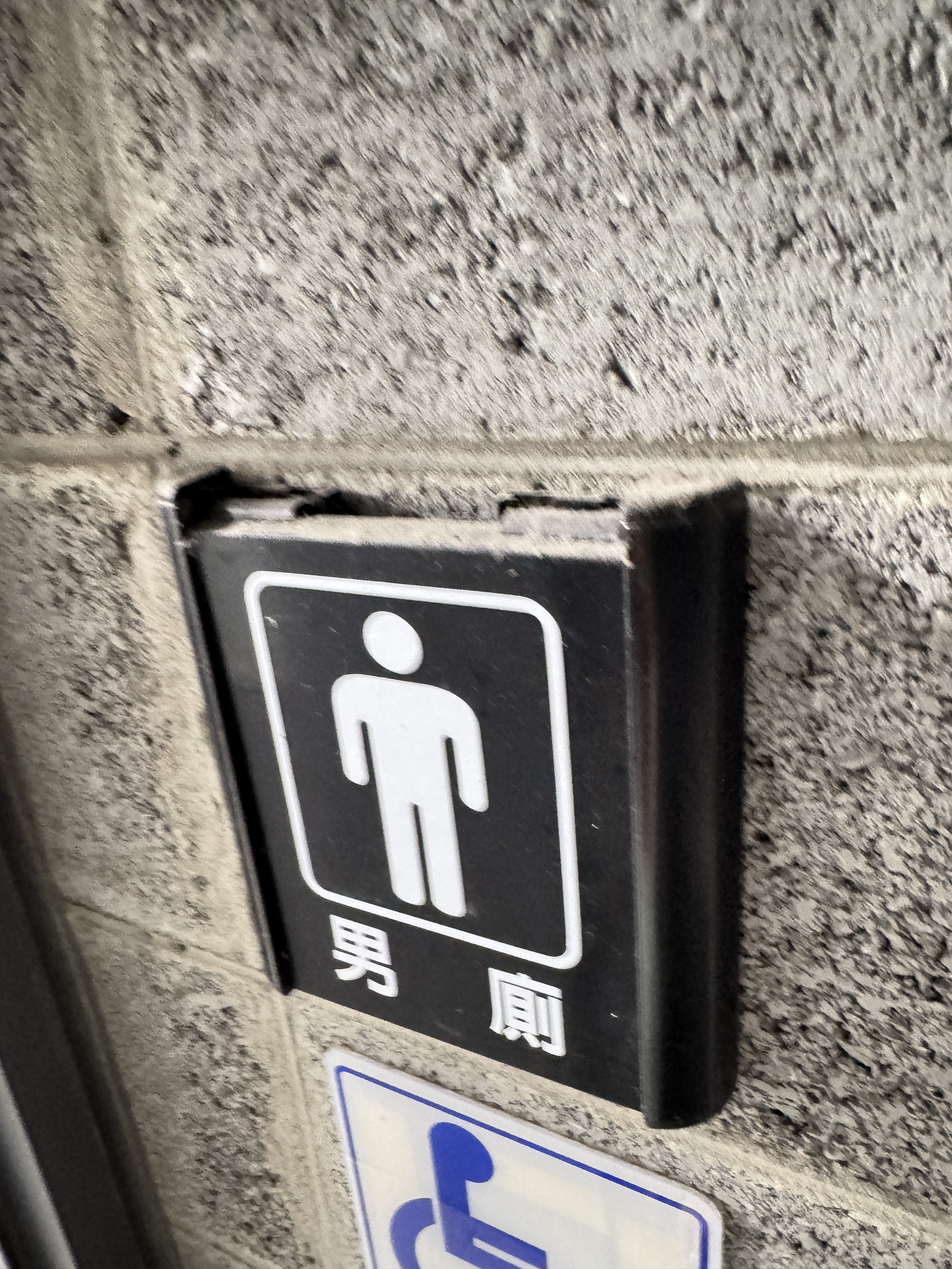toilet_sign: (144, 450, 790, 1113)
